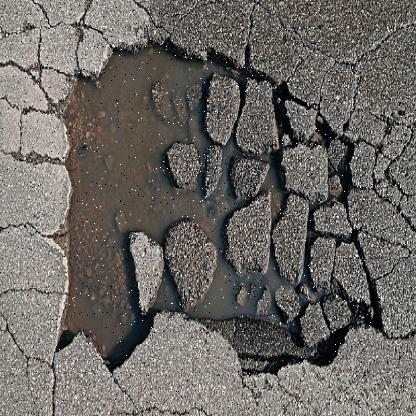crack: (202, 26, 397, 394)
pothole_water: (54, 34, 211, 371)
